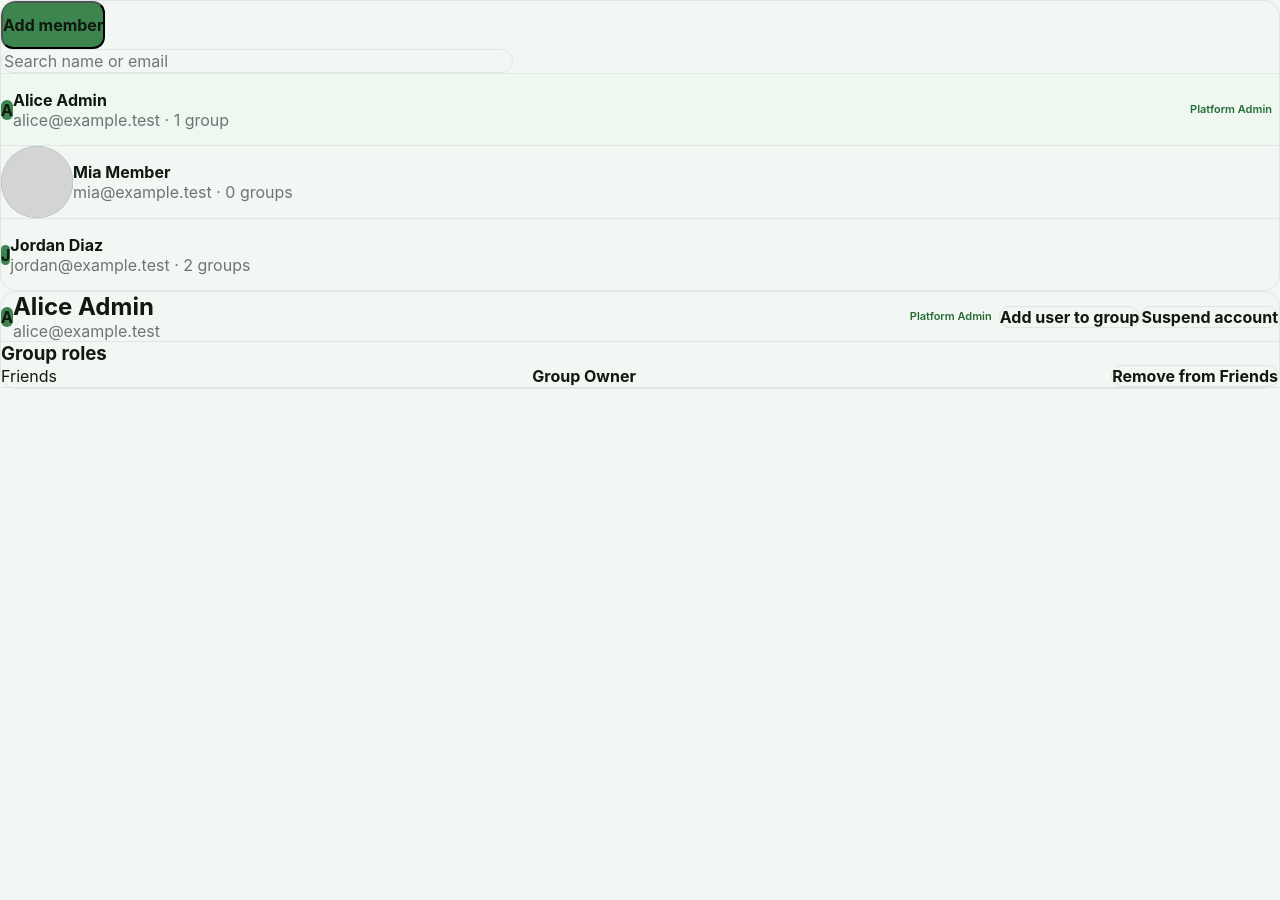
Scenario: UsersAdminView › surfaces a 409 error inline in the remove-membership dialog
Click the button "Remove from Friends": click(1195, 376) [1111, 365, 1279, 387]
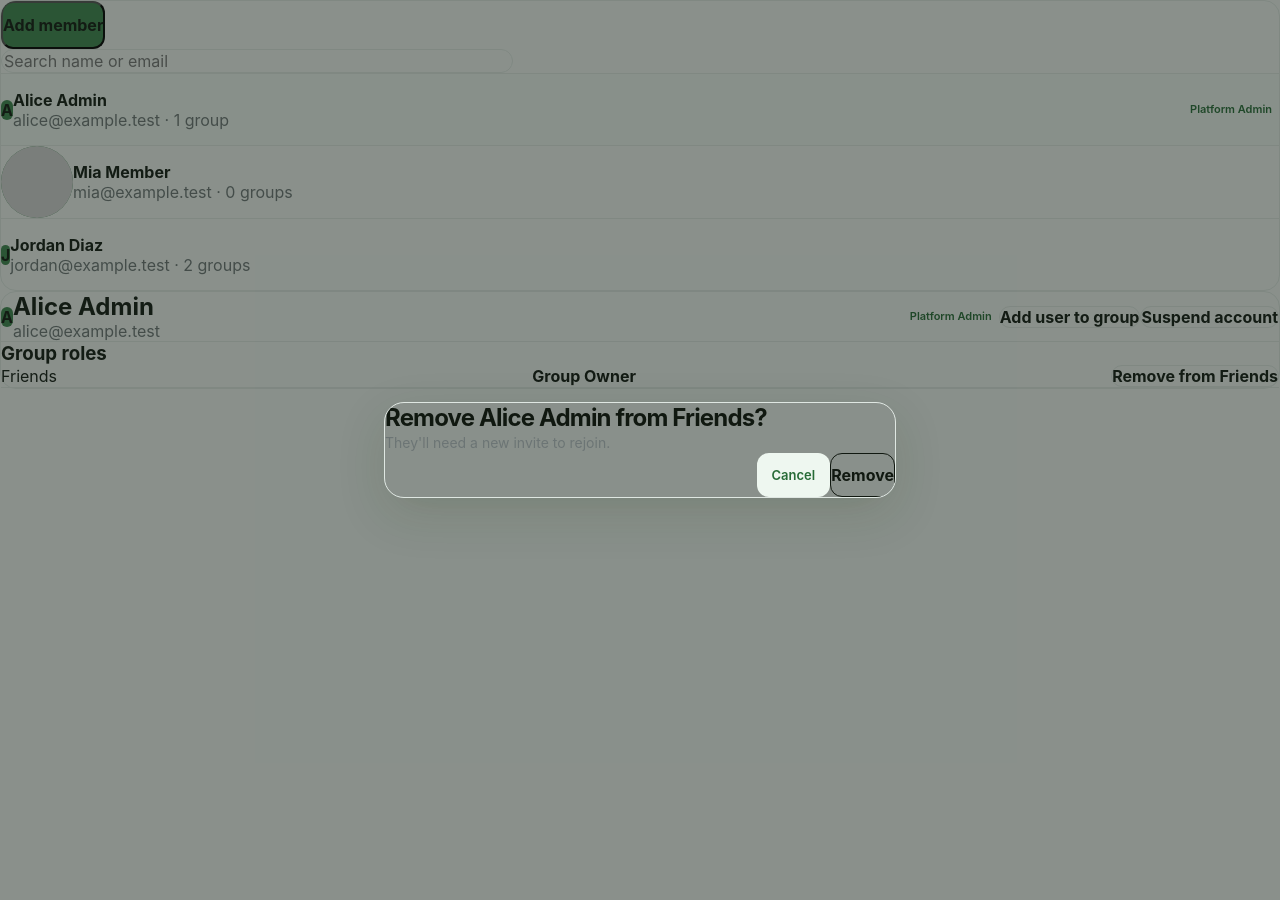
Click the button "Remove": click(863, 475) [830, 453, 895, 497]
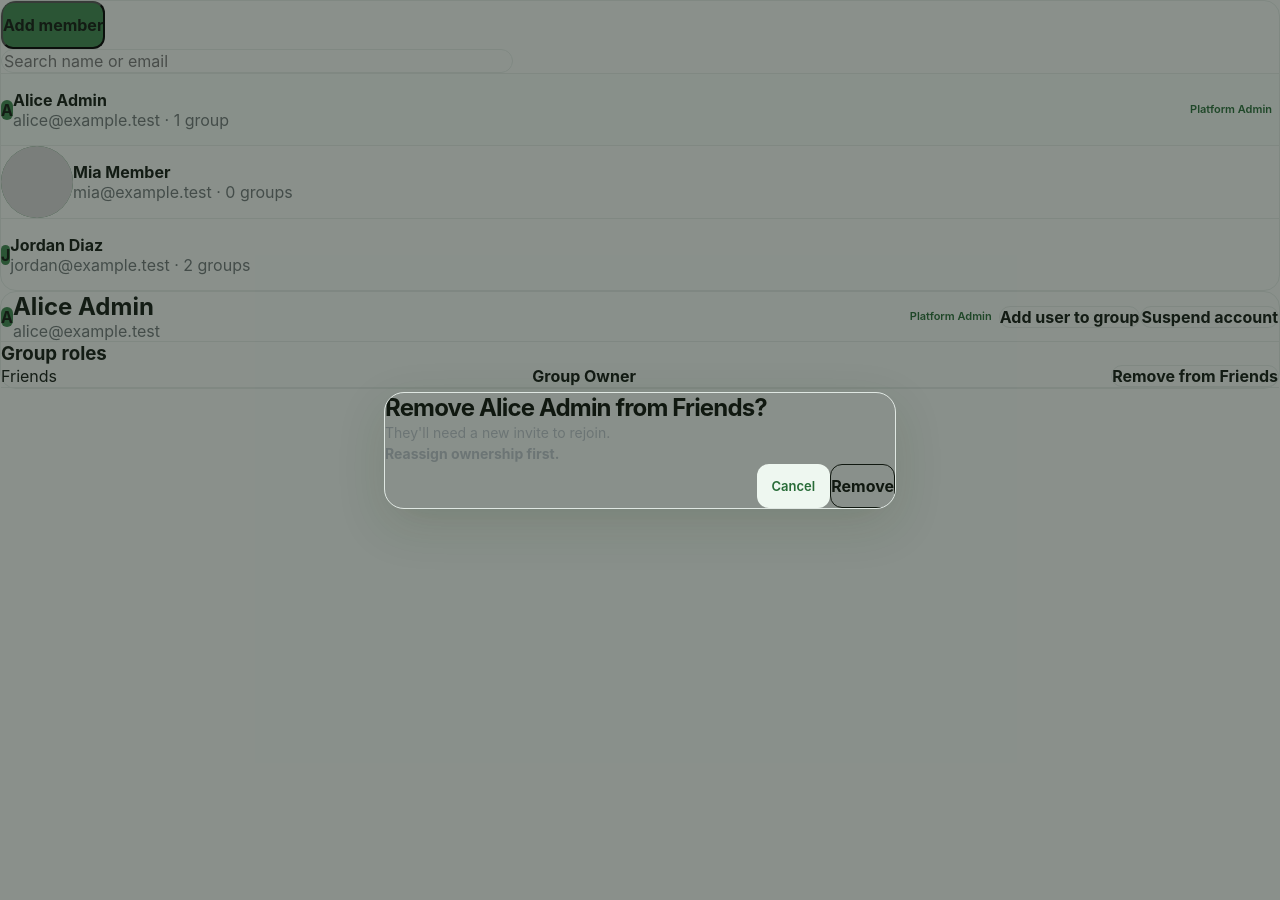
expect the text "Reassign ownership first." is shown: met, box [385, 444, 559, 462]
